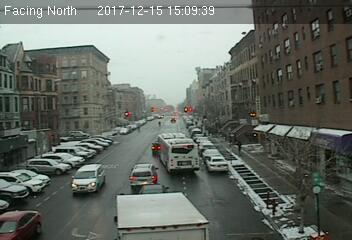bus: (158, 132, 199, 175)
car: (1, 209, 40, 238), (71, 164, 105, 193), (130, 164, 157, 186), (206, 157, 229, 171)
truck: (114, 194, 207, 240)
